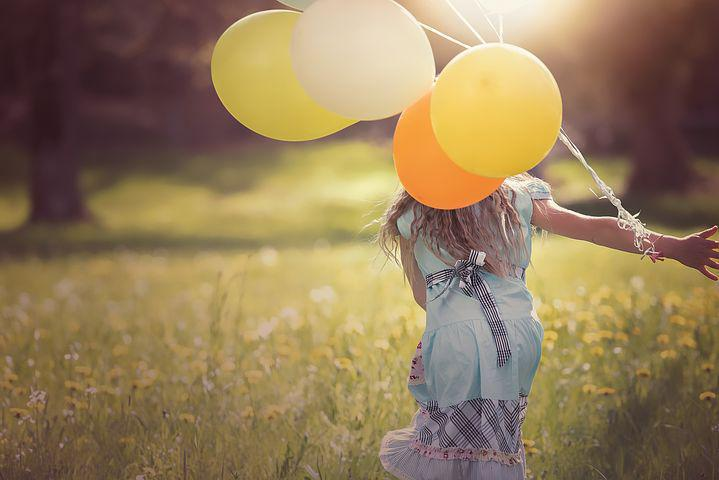child: (374, 111, 574, 480)
